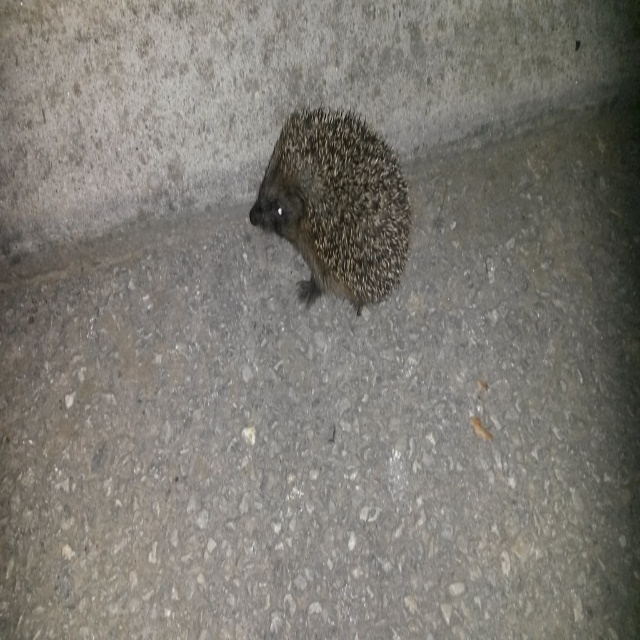Hedgehog: (248, 101, 413, 318)
